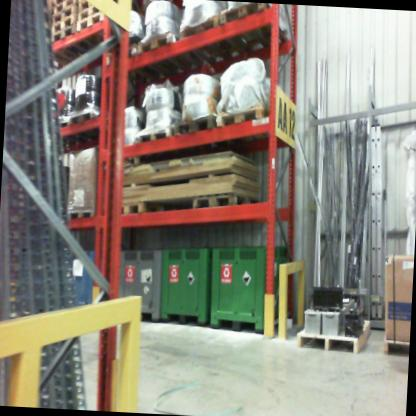pallet: (172, 110, 252, 154), (289, 315, 372, 357), (56, 105, 108, 158), (217, 98, 277, 143), (187, 187, 266, 221), (46, 22, 108, 63), (74, 11, 132, 46), (115, 196, 171, 228), (132, 123, 174, 158), (58, 204, 97, 231), (75, 0, 111, 24), (381, 332, 408, 359), (49, 15, 76, 38), (51, 7, 75, 25), (53, 0, 76, 16), (77, 0, 108, 10), (52, 0, 74, 6)
